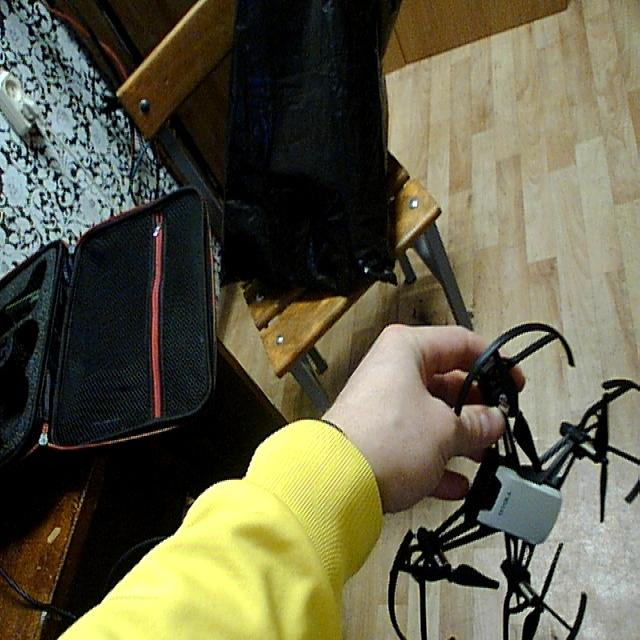drone: (383, 317, 640, 640)
